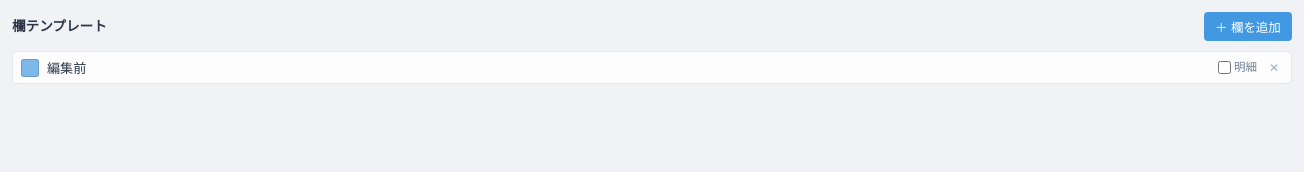
Test: FieldListPanel › 欄名ボタンをクリックするとインライン編集に入る
What coordinates should you click on to do the following:
click the button with aria-label "編集前（クリックで名前を編集）"
I would click on:
 (67, 69)
Its box is [47,58,1210,77].
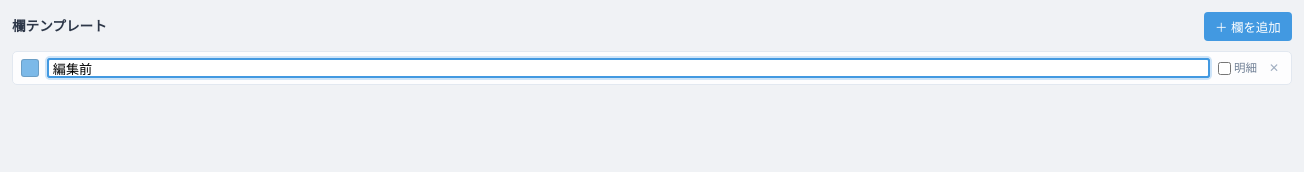
Expected: the field named "欄の名前を編集" is shown, [47,58,1210,78]
